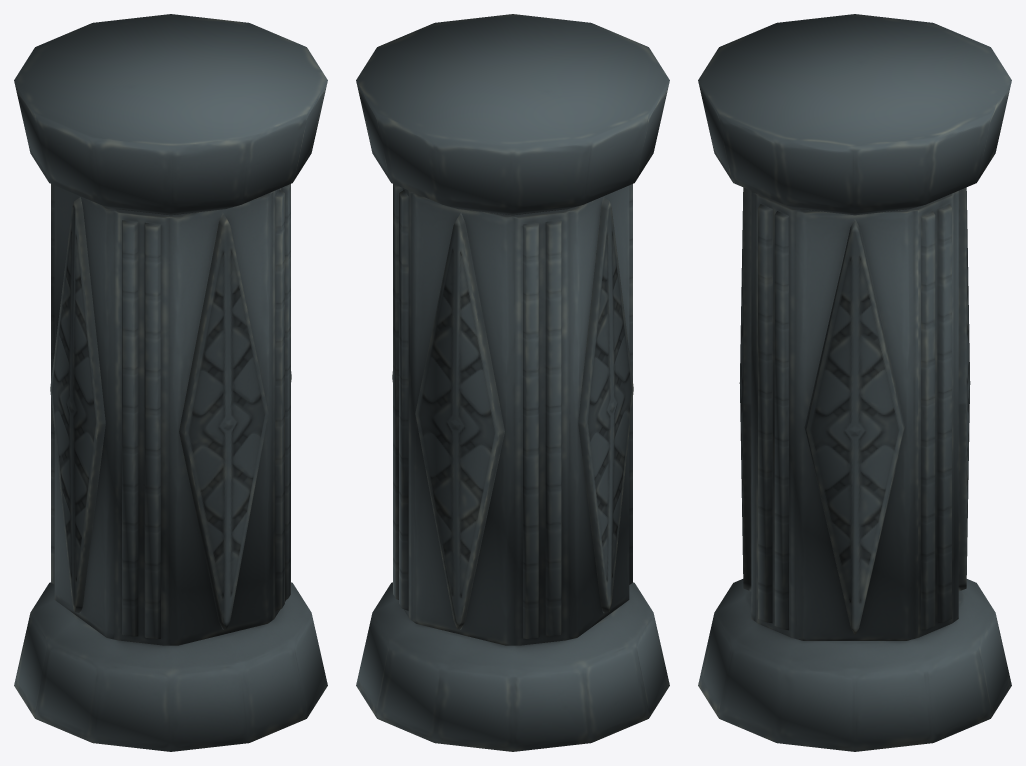
Rendered from ProjectRG_Environment_RuinsPillar_Var0.fbx.
3 renders of one model, left to right at view 1: azimuth 30°, elevation 25°; view 2: azimuth 150°, elevation 25°; view 3: azimuth 270°, elevation 25°, orthographic.
Visible parts, largest first — view 1: ProjectRG_Environment_RuinsPillar_Var0; view 2: ProjectRG_Environment_RuinsPillar_Var0; view 3: ProjectRG_Environment_RuinsPillar_Var0.
Part boxes in pixels (box(x1,y1,x2,y2)): ProjectRG_Environment_RuinsPillar_Var0: box(14, 14, 327, 751); ProjectRG_Environment_RuinsPillar_Var0: box(356, 14, 669, 751); ProjectRG_Environment_RuinsPillar_Var0: box(698, 14, 1011, 751).
Size of the model in its own units: 1237 by 2632 by 1237.
